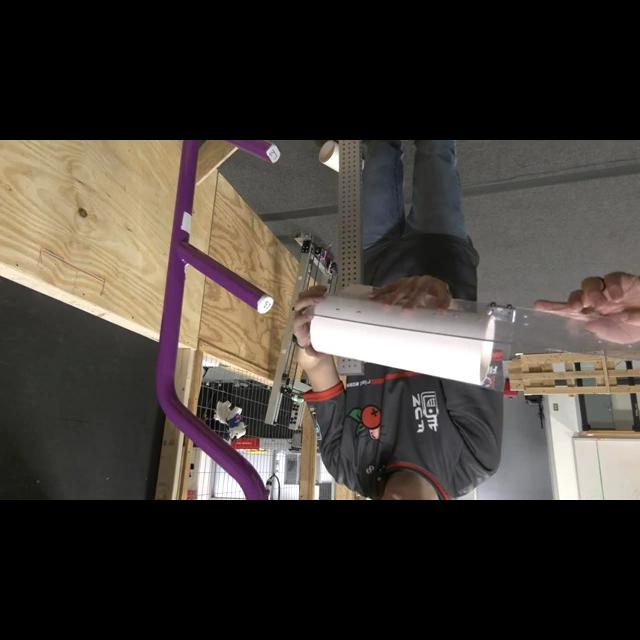CORAL: (309, 292, 497, 388)
